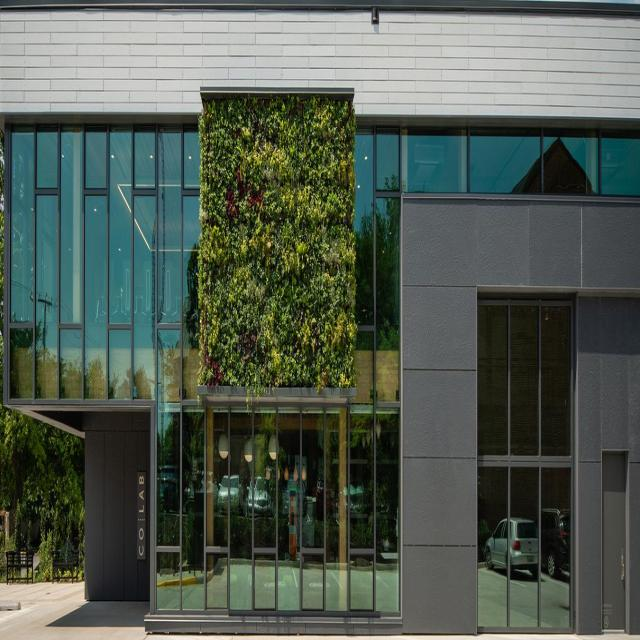door: (602, 450, 631, 639)
window: (10, 123, 640, 617), (476, 304, 574, 637)
